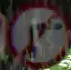Don't turn right: (7, 3, 69, 63)
